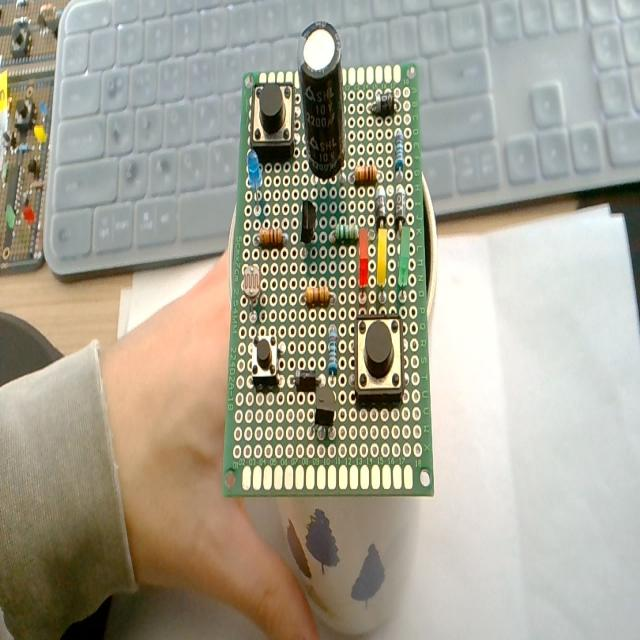Electrolytic capacitor: (296, 15, 348, 187)
cds: (238, 252, 262, 324)
diode: (368, 92, 406, 117), (374, 180, 390, 237), (285, 367, 321, 391), (392, 179, 407, 236)
led: (244, 147, 267, 215), (355, 227, 371, 301), (397, 225, 411, 305), (376, 229, 389, 301)
resistor: (390, 124, 410, 184), (296, 283, 338, 311), (253, 224, 291, 251), (346, 163, 383, 188), (326, 322, 340, 386), (328, 222, 362, 245)
switch: (350, 312, 408, 409), (248, 74, 298, 163), (249, 327, 284, 389)
transistor: (313, 384, 340, 455), (296, 196, 318, 264)
